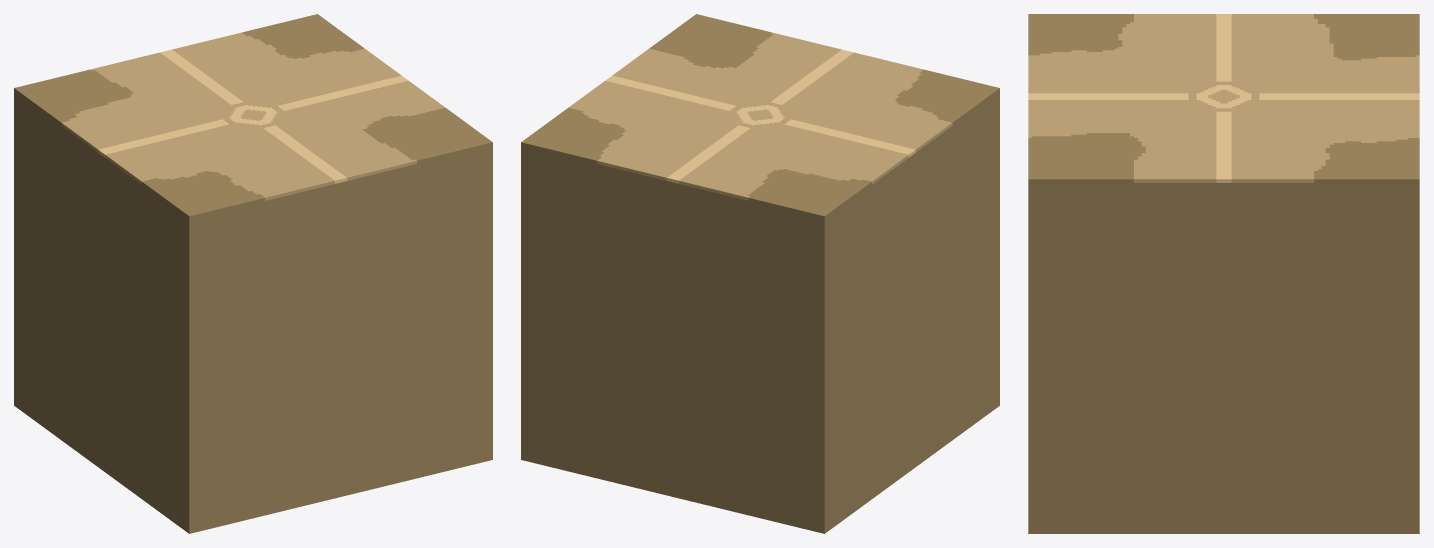
Rendered from floor4.obj.
3 views of the same model, side by side, from view 1: azimuth 30°, elevation 25°; view 2: azimuth 150°, elevation 25°; view 3: azimuth 270°, elevation 25° (orthographic). The views are drawn at different scales.
Visible parts, largest first — view 1: floor4; view 2: floor4; view 3: floor4.
Part boxes in pixels (x1,y1,x2,y2): floor4: (14,14,492,533); floor4: (521,14,999,533); floor4: (1028,14,1419,533).
Size of the model in its own units: 100 by 100 by 100.
1 material, 1 textured.
